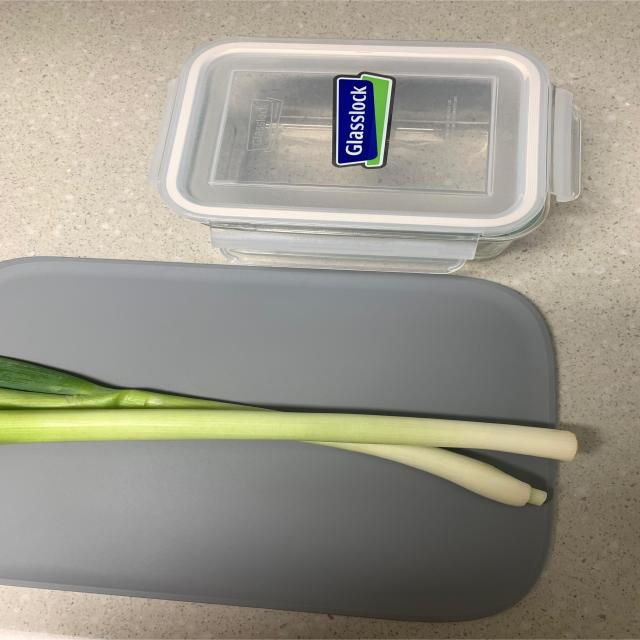Onion: (3, 352, 580, 509)
